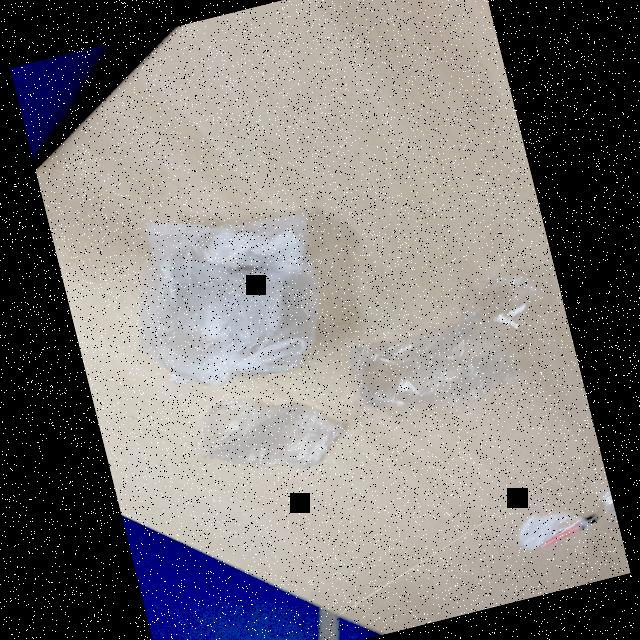plastic_bag: (110, 182, 342, 404), (340, 278, 553, 426), (185, 378, 352, 491)
scrap_plastic: (517, 495, 599, 558)
